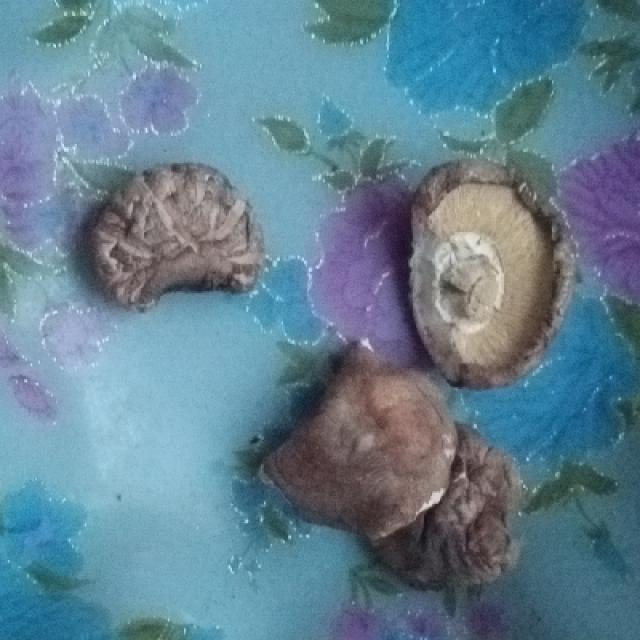Lentinus edodes: (259, 349, 455, 538), (411, 163, 570, 382), (386, 422, 528, 594), (96, 165, 264, 294)
